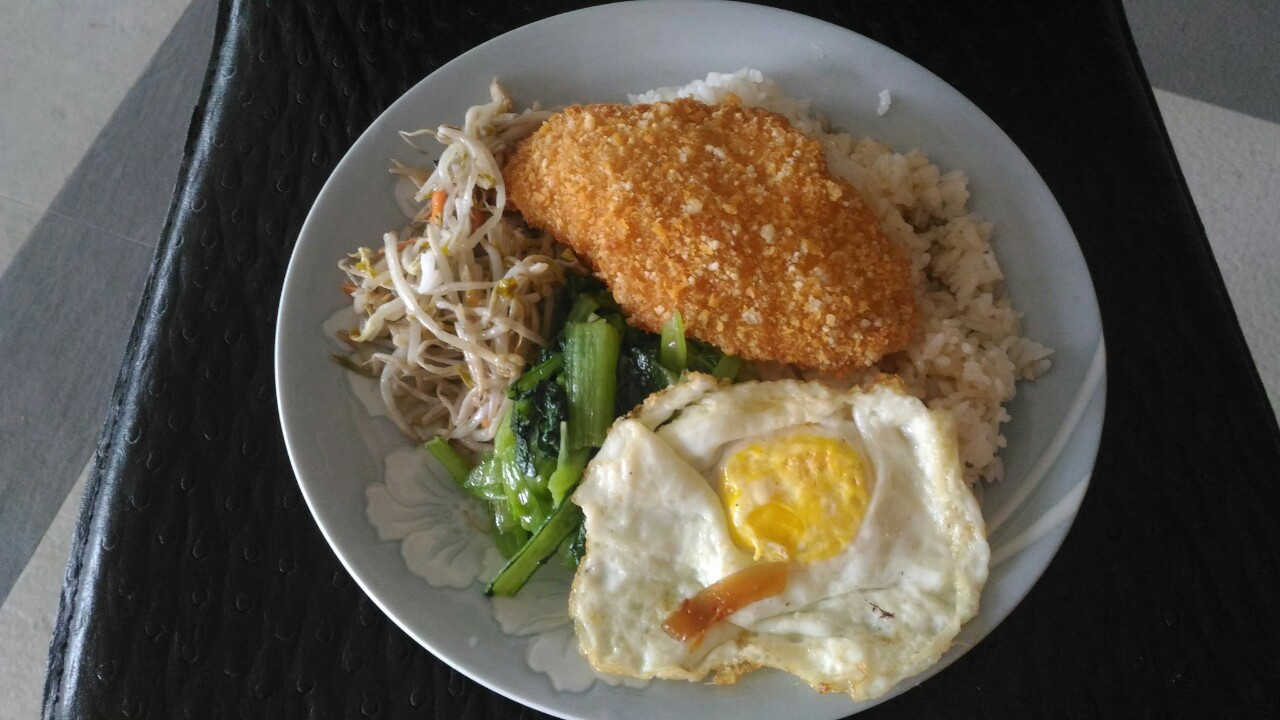fried_chicken: (508, 106, 912, 369)
fried_eggs: (572, 375, 997, 687)
mung_bean_sprouts: (337, 99, 523, 429)
rice: (903, 167, 1018, 422)
water_spinach: (488, 294, 631, 567)
